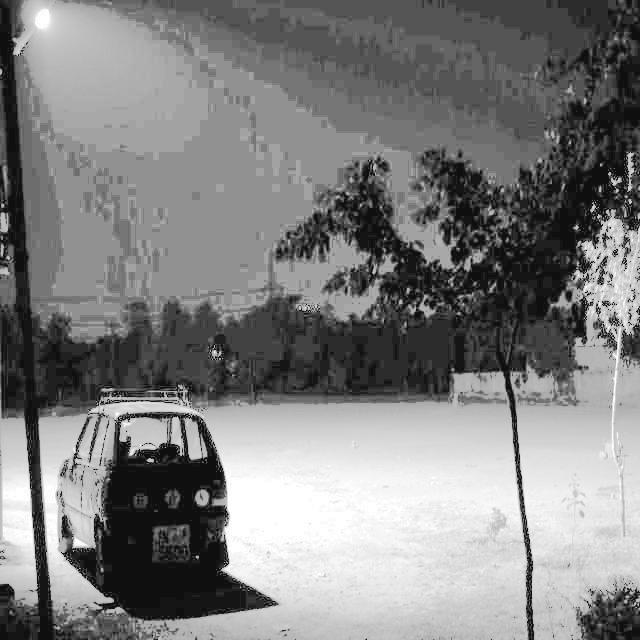Car: (51, 381, 230, 612)
Tree: (592, 208, 637, 544)
